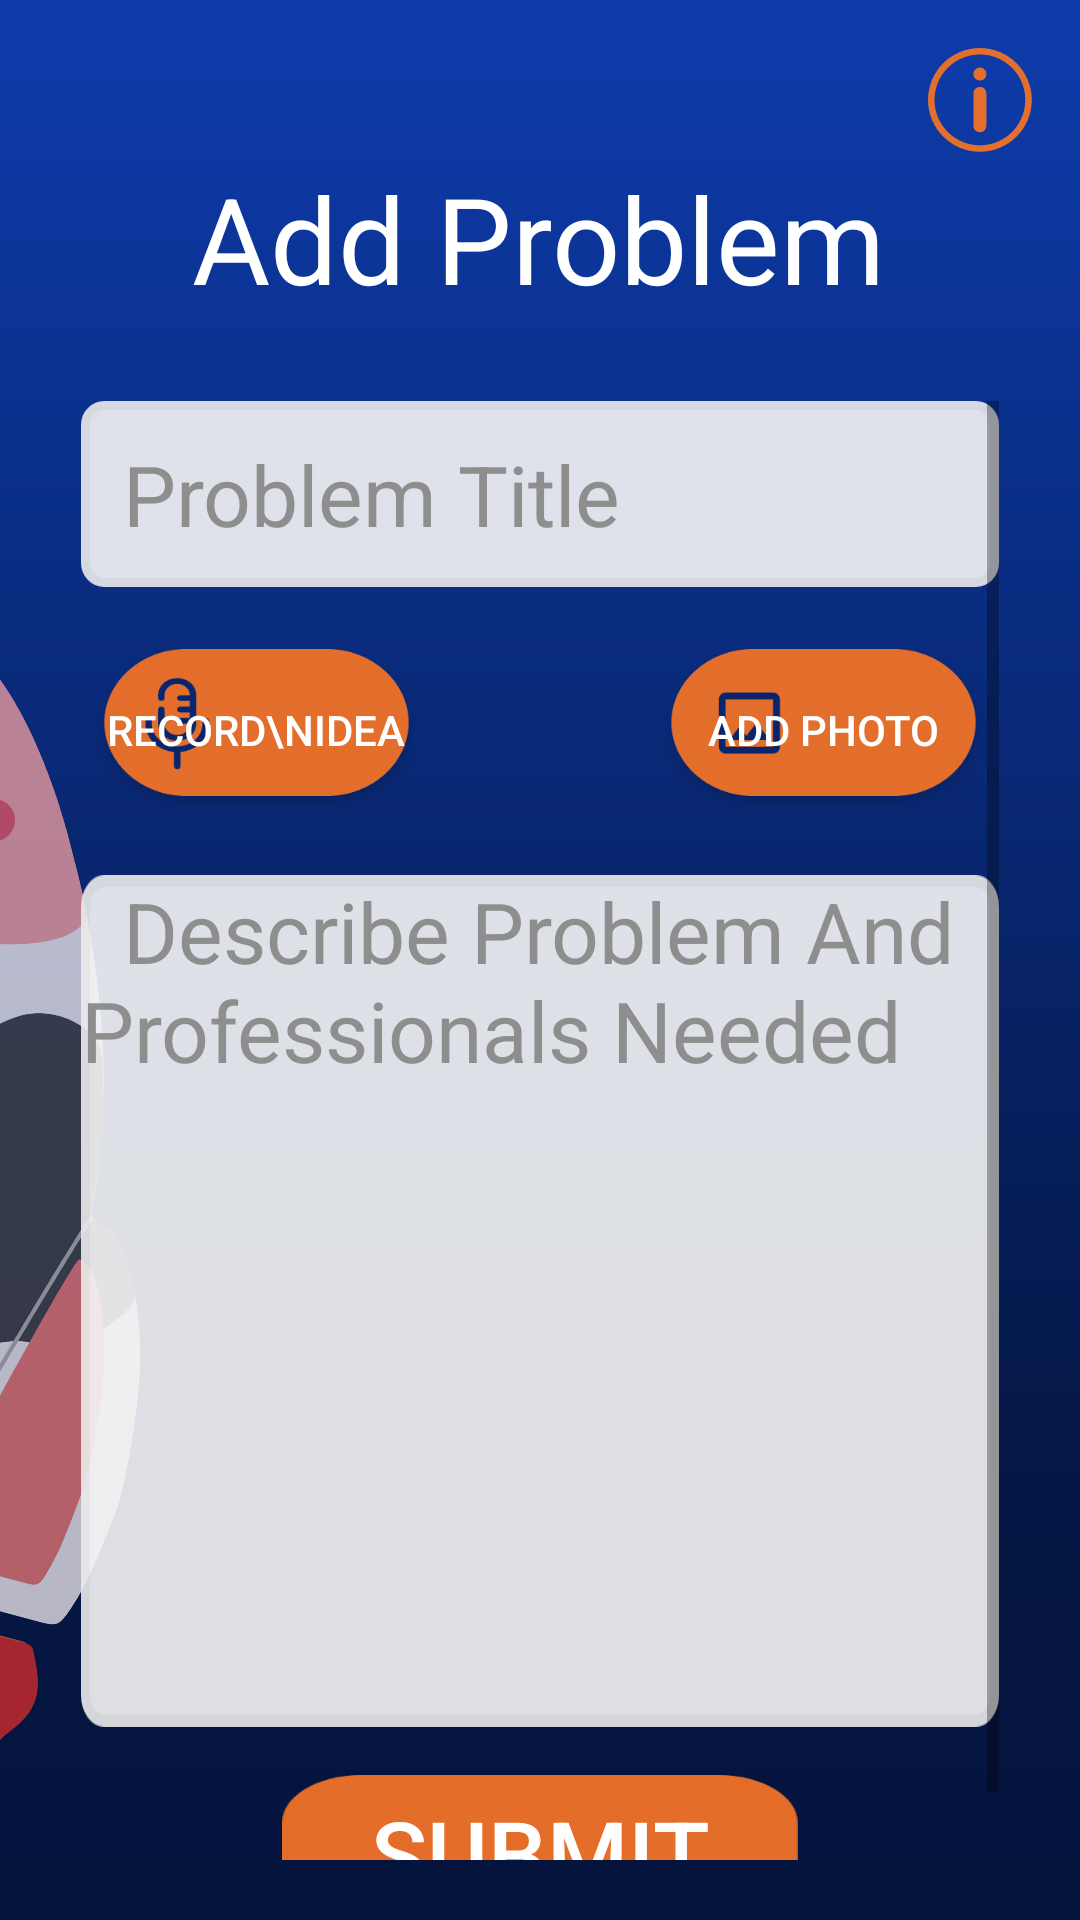

Point at icon controls on the screen. Image size 1080*1920, points as [x,y].
info but: [980,100]
